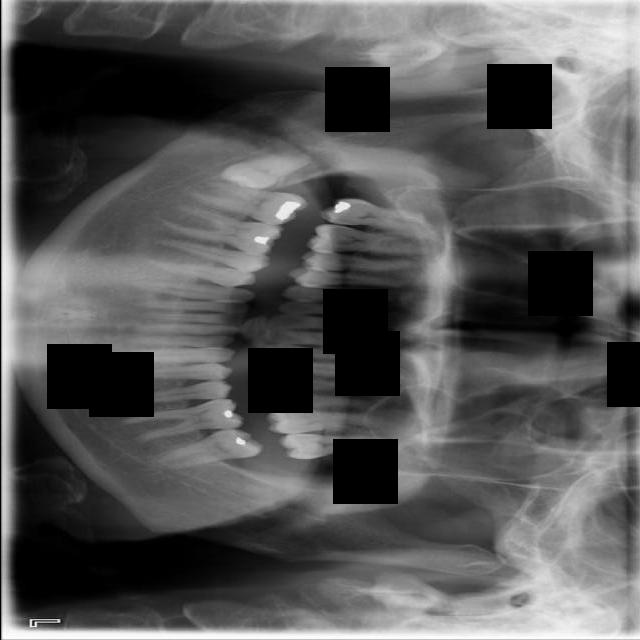52: (206, 424, 263, 467), (250, 191, 306, 226), (234, 218, 282, 258), (199, 397, 245, 431), (320, 198, 376, 224)
73: (36, 613, 50, 619)
BioHorizons Implant: (277, 432, 397, 463)
Blue Sky Bio Implant: (152, 422, 263, 473)
Caries: (318, 192, 432, 237)
Implant: (189, 179, 306, 228)
Keystone Dental Implant: (217, 144, 313, 199)
